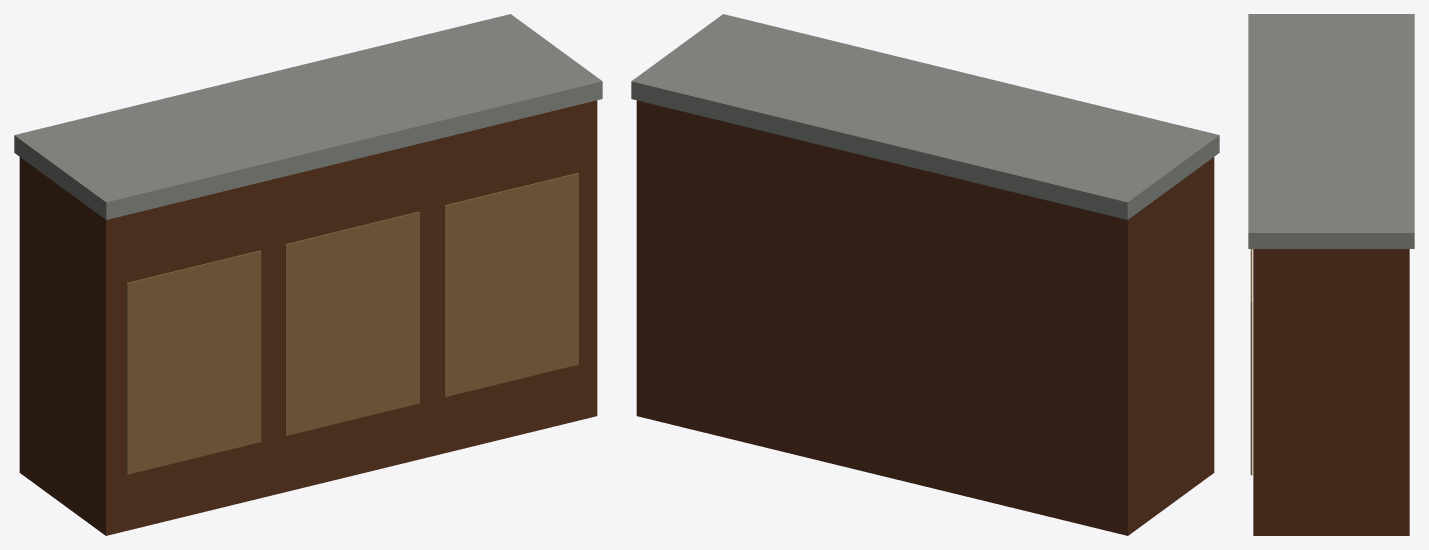
File: shoe_counter.glb
The picture shows the model from 3 angles, left to right: view 1: azimuth 30°, elevation 25°; view 2: azimuth 150°, elevation 25°; view 3: azimuth 270°, elevation 25°; orthographic projection. The views are drawn at different scales.
Parts seen in each view (by area): view 1: body; view 2: body; view 3: body.
Part boxes in pixels (x1,y1,x2,y2): body: [14, 14, 602, 535]; body: [631, 14, 1219, 535]; body: [1248, 14, 1414, 535].
Size of the model in its own units: 2.8 by 1.81 by 0.898.
1 material, 1 textured.
